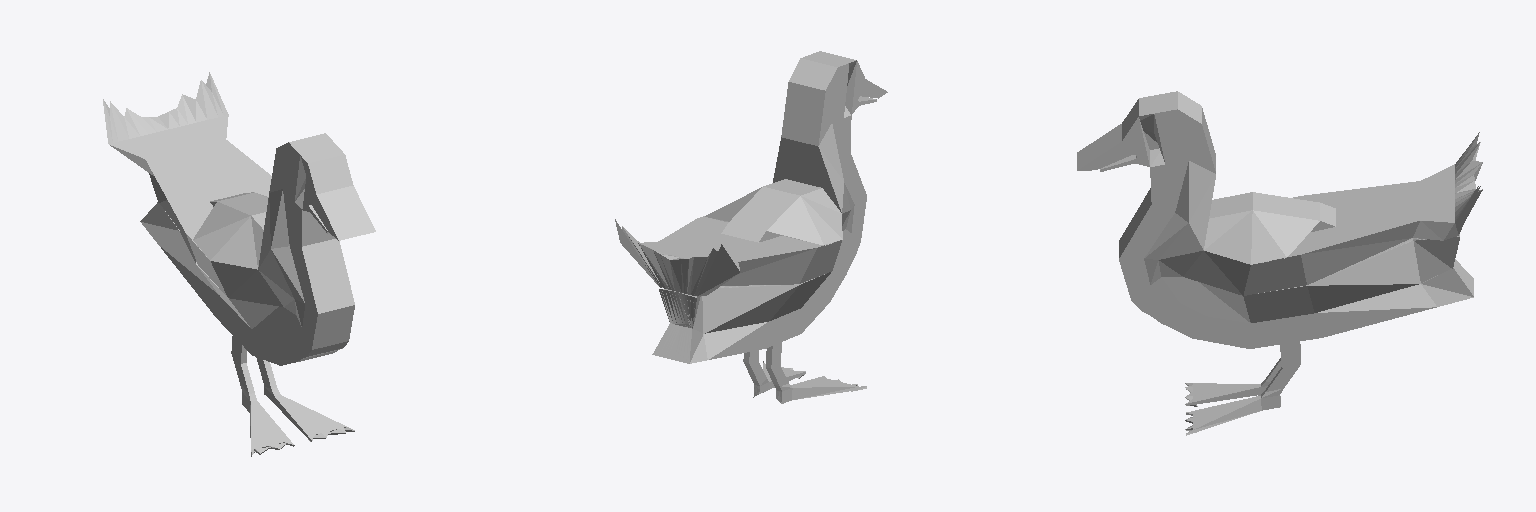
Rendered from pato.obj.
The picture shows the model from 3 angles: view 1: azimuth 30°, elevation 25°; view 2: azimuth 150°, elevation 25°; view 3: azimuth 270°, elevation 25°; orthographic projection.
Parts seen in each view (by area): view 1: Cube.001; view 2: Cube.001; view 3: Cube.001.
Boxes of the visible parts, x1,y1,x2,y2 form: Cube.001: [103, 72, 375, 456]; Cube.001: [615, 51, 887, 403]; Cube.001: [1077, 91, 1482, 435].
Bounding box in the file's own units: 0.5137 × 1.27 × 1.5.